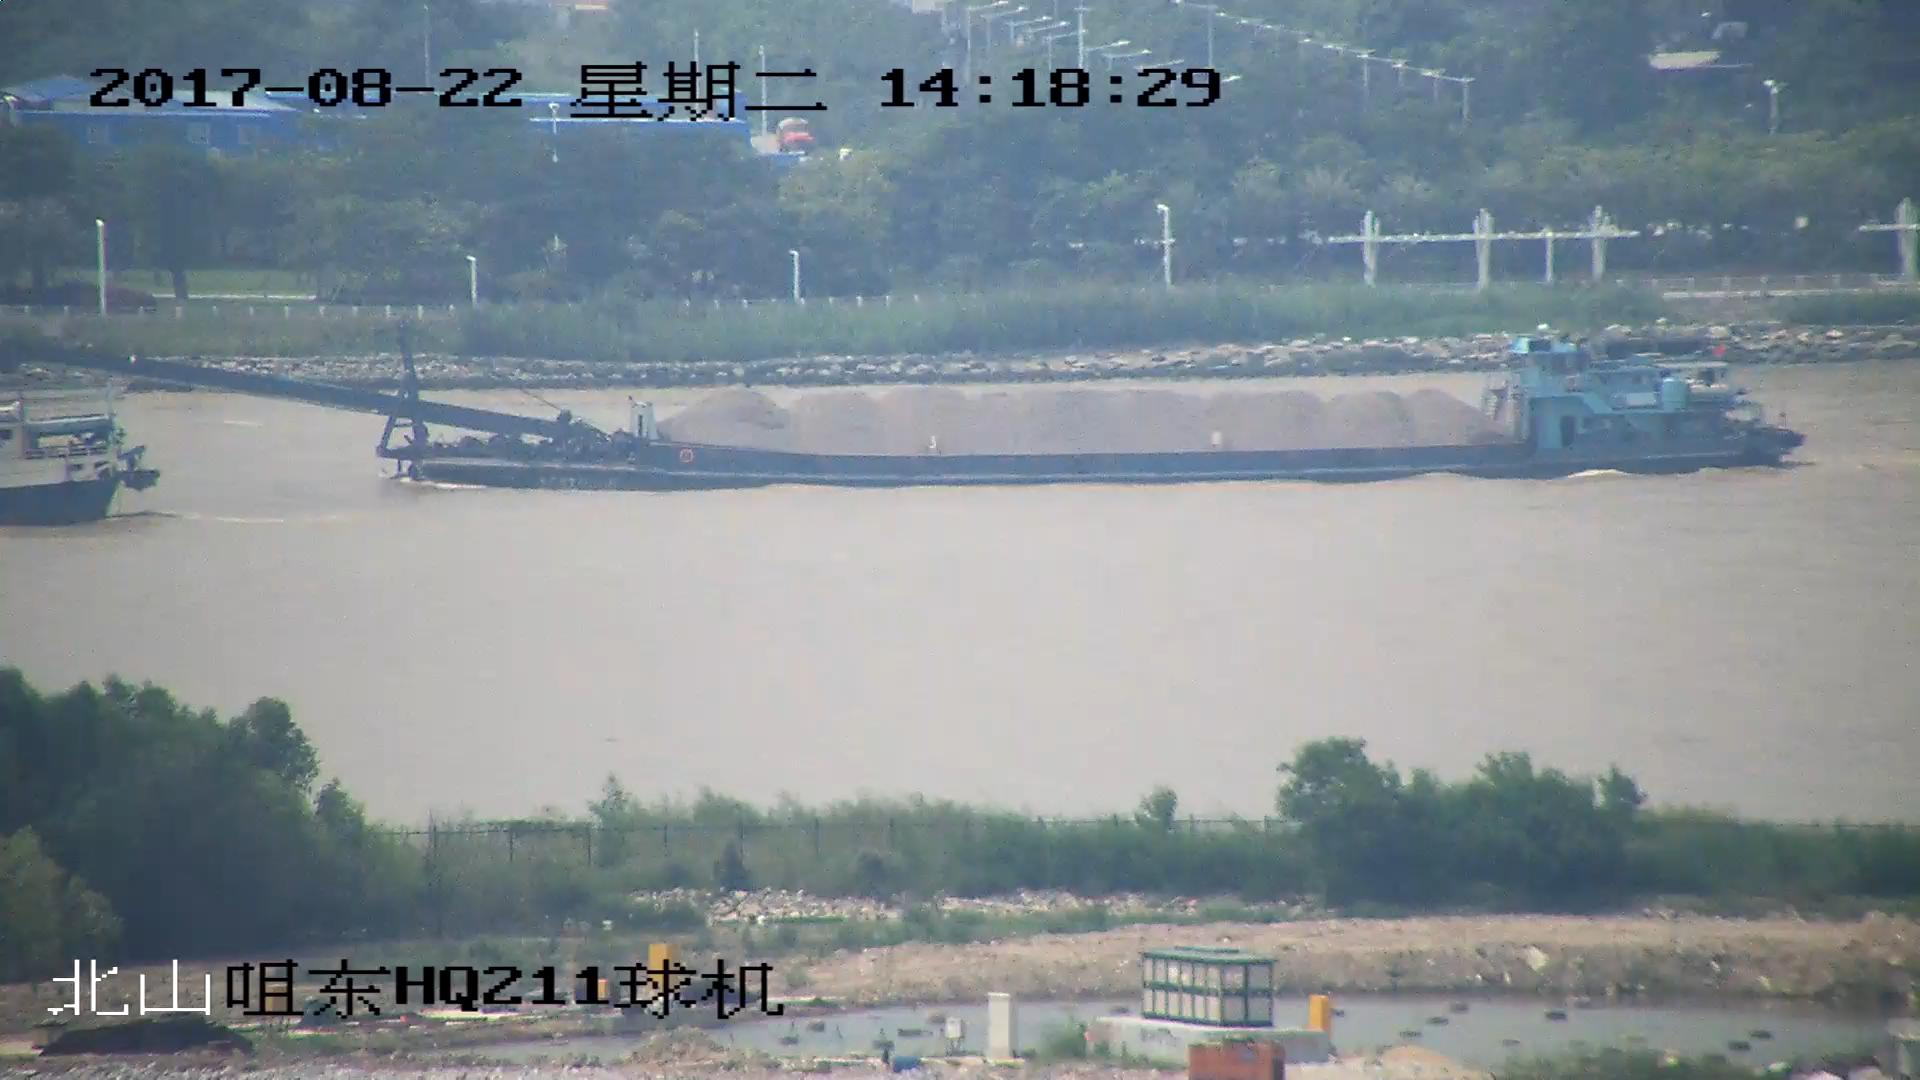fishing boat: (1, 400, 165, 524)
ore carrier: (1, 322, 1810, 488)
